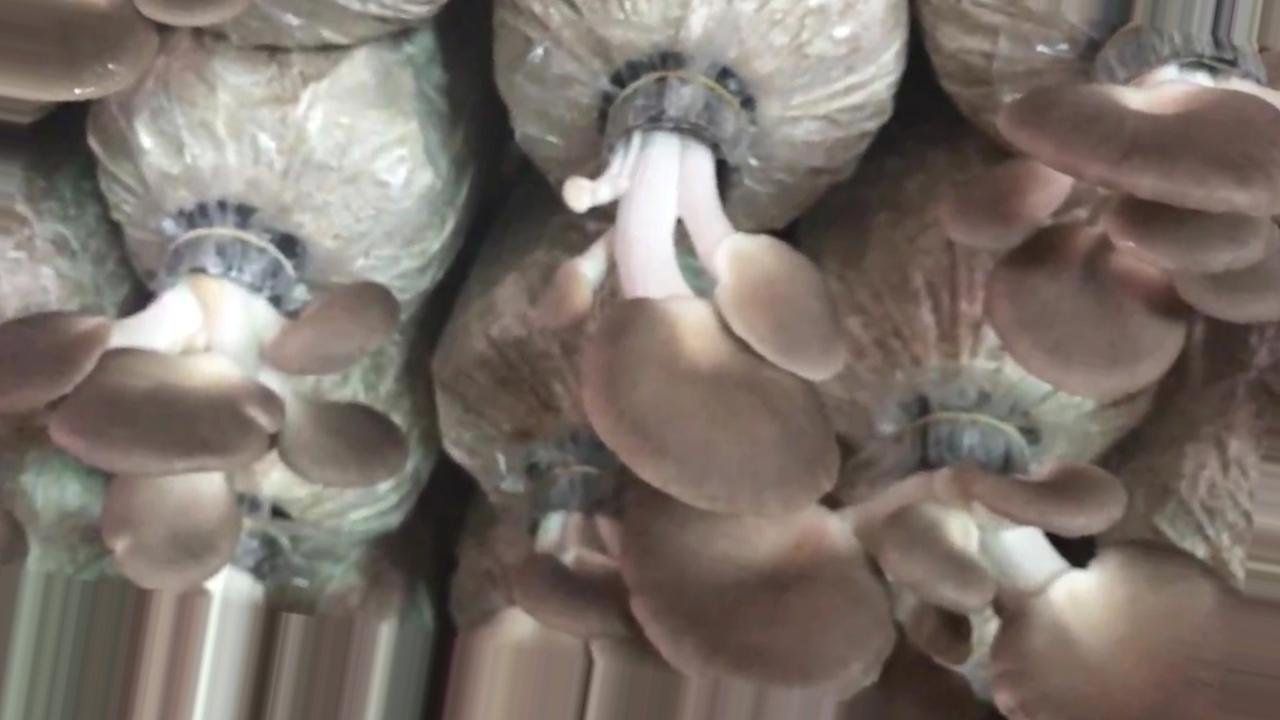nam: (624, 385, 1280, 718), (1, 212, 407, 588), (528, 60, 850, 518), (936, 7, 1280, 409), (503, 450, 652, 642)
